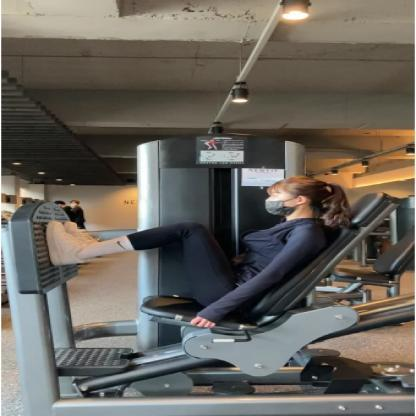leg press: (0, 133, 416, 416)
